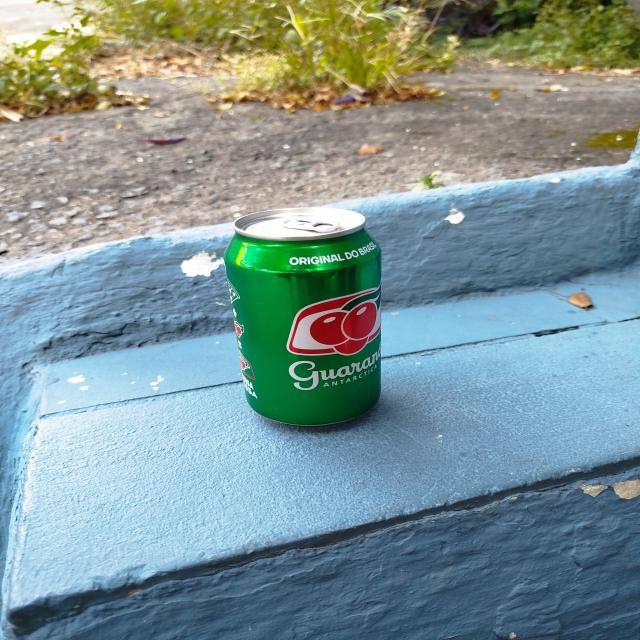Guarana: (219, 207, 391, 429)
